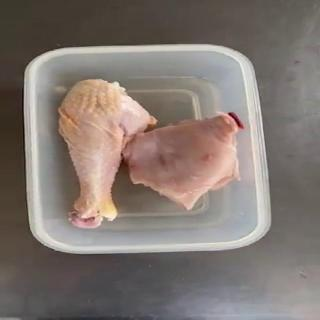Ayam: (58, 79, 160, 229), (122, 111, 246, 211)
